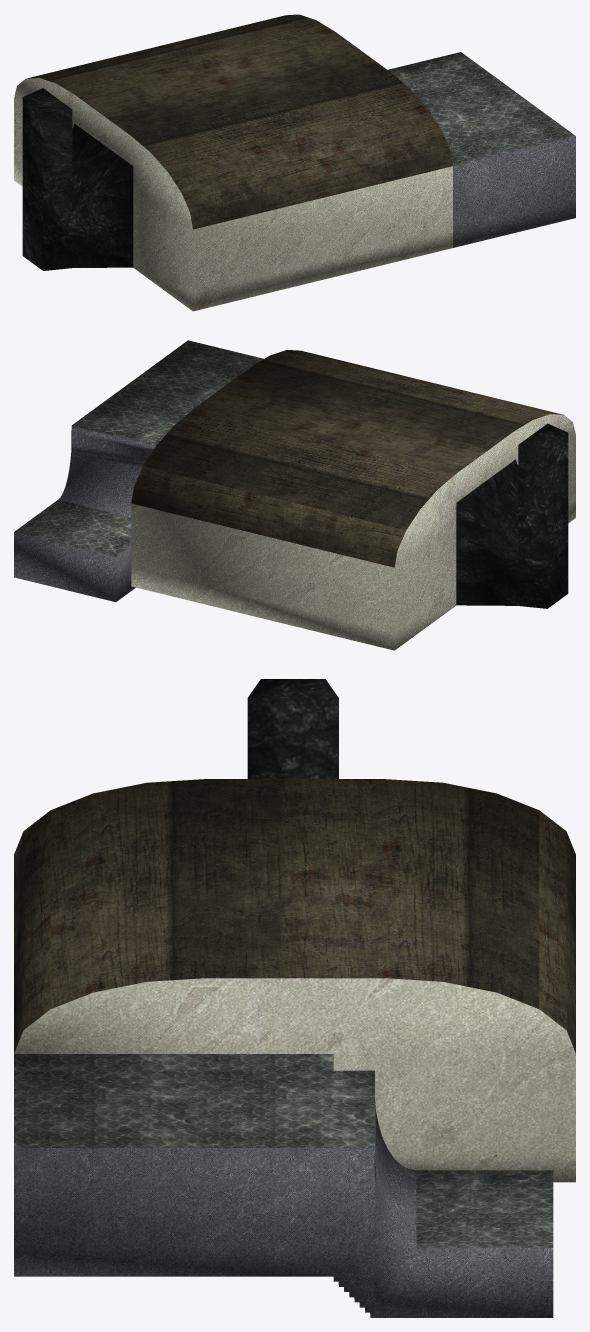
Rendered from DiningHallShell.glb.
3 views of the same model, one above another, from view 1: azimuth 30°, elevation 25°; view 2: azimuth 150°, elevation 25°; view 3: azimuth 270°, elevation 25° (orthographic). The views are drawn at different scales.
Parts seen in each view (by area): view 1: Cube; view 2: Cube; view 3: Cube.
Boxes of the visible parts, bbox=[...] form: Cube: bbox=[14, 14, 575, 311]; Cube: bbox=[14, 340, 575, 650]; Cube: bbox=[14, 679, 575, 1317].
Size of the model in its own units: 18.03 by 7.04 by 12.31.
Materials: 7 (7 with a texture image).
